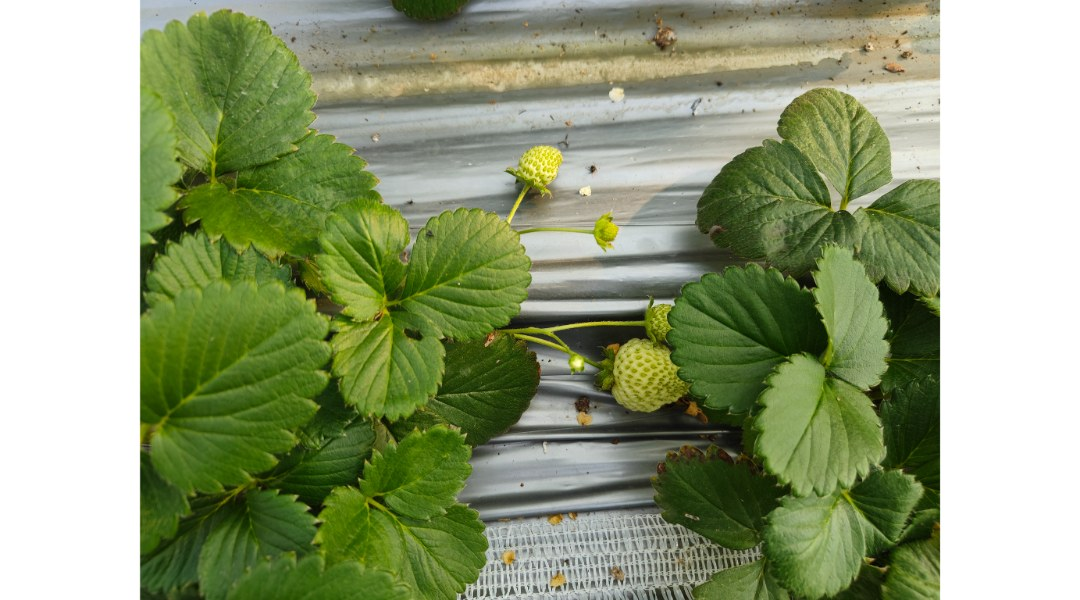berry: (594, 341, 698, 421), (492, 130, 566, 196), (641, 286, 692, 332), (592, 211, 615, 246)
strain: (571, 309, 641, 336), (530, 216, 590, 243)
